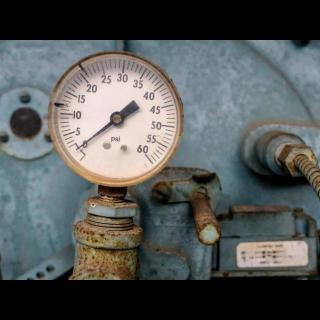gauge: (44, 40, 188, 188), (134, 144, 158, 166), (74, 139, 94, 163), (110, 111, 122, 125), (72, 146, 80, 154)
